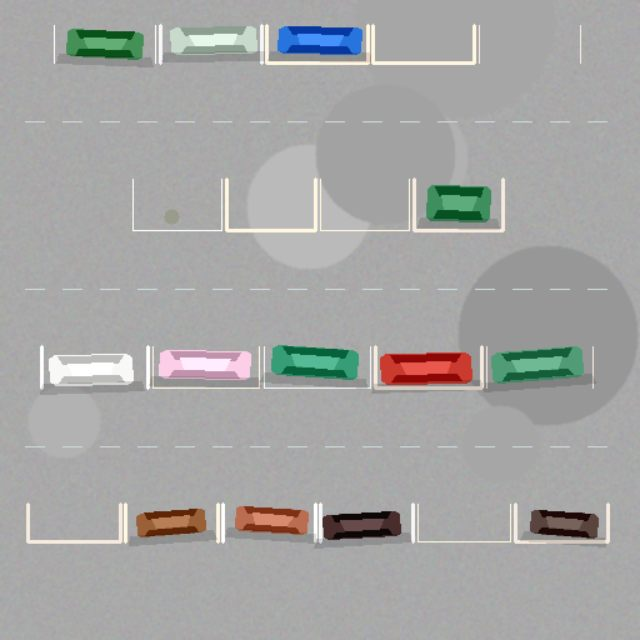space-empty: (132, 179, 221, 230), (226, 179, 315, 230), (320, 179, 409, 230), (373, 25, 474, 62), (479, 25, 580, 62), (27, 504, 120, 541), (417, 504, 510, 541)
space-occupied: (414, 179, 502, 230), (41, 346, 148, 387), (152, 346, 259, 387), (264, 346, 370, 387), (375, 346, 481, 387), (486, 346, 592, 387), (54, 25, 155, 62), (160, 25, 261, 62), (266, 25, 367, 62), (320, 504, 413, 541), (125, 504, 217, 541), (223, 504, 315, 541), (515, 504, 607, 541)
